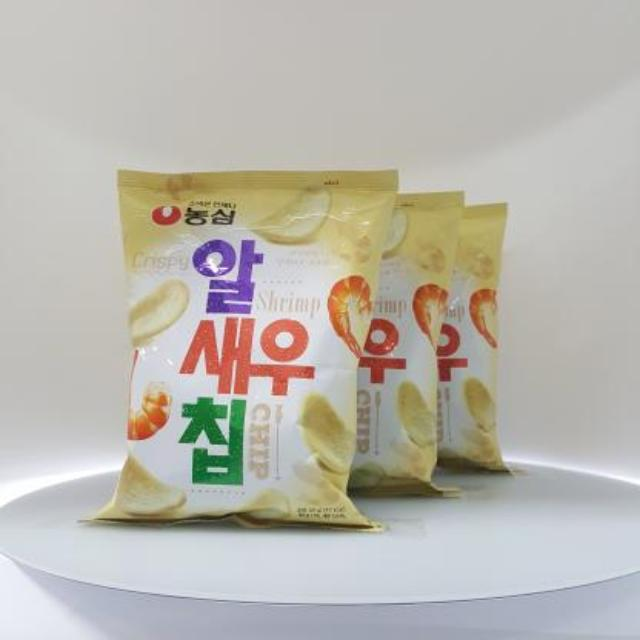snack_bag: (71, 146, 537, 546)
